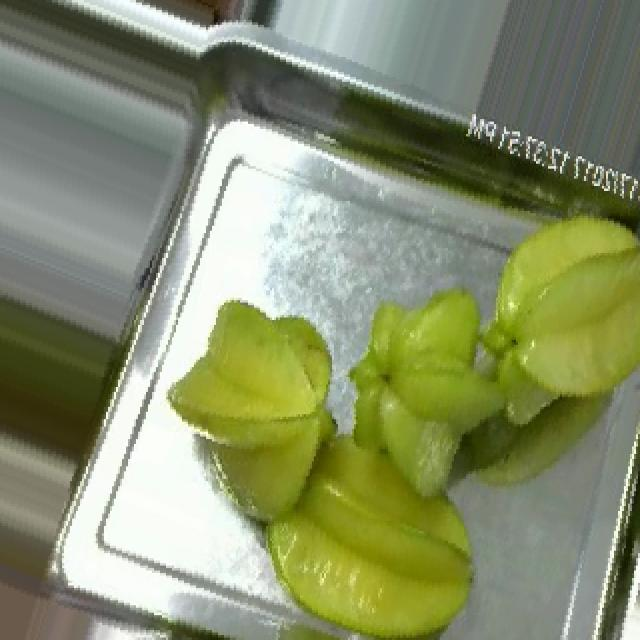fruit: (308, 253, 542, 583), (138, 270, 378, 566), (216, 404, 508, 640), (456, 181, 640, 447)
